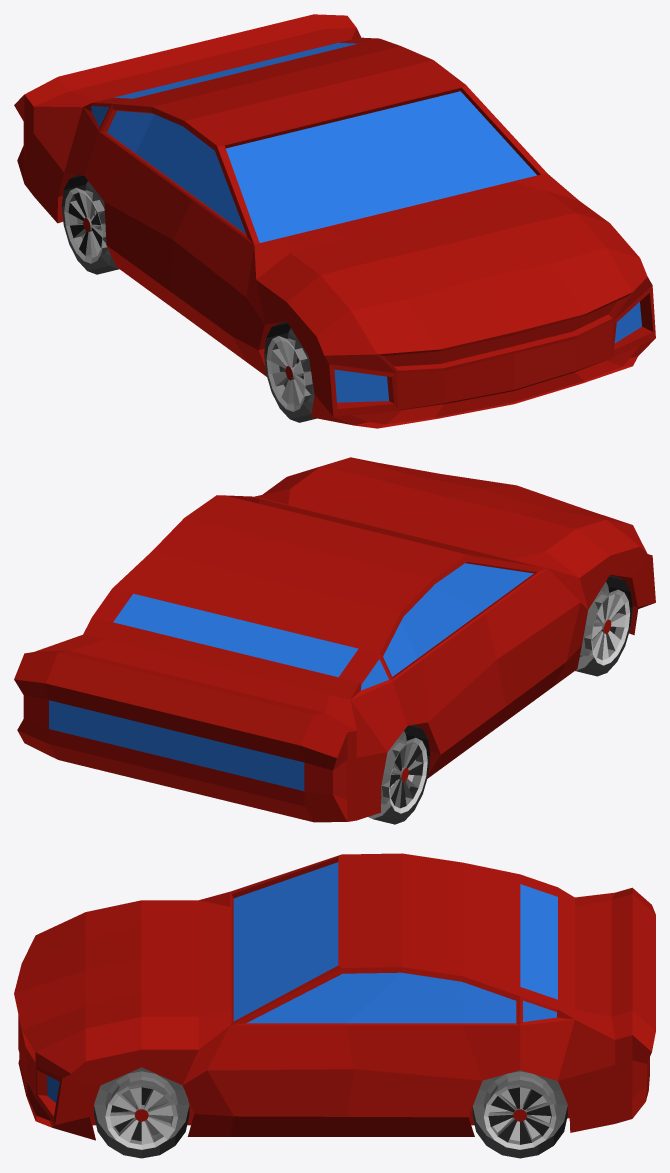
The model's file is car2.fbx.
3 renders of one model, top to bottom at view 1: azimuth 30°, elevation 25°; view 2: azimuth 150°, elevation 25°; view 3: azimuth 270°, elevation 25°, orthographic. The views are drawn at different scales.
Visible parts, largest first — view 1: Cube; view 2: Cube; view 3: Cube.
Boxes of the visible parts, x1,y1,x2,y2 form: Cube: (14,14,655,428); Cube: (14,457,655,824); Cube: (14,853,655,1158).
Bounding box in the file's own units: 268 × 144 × 477.
